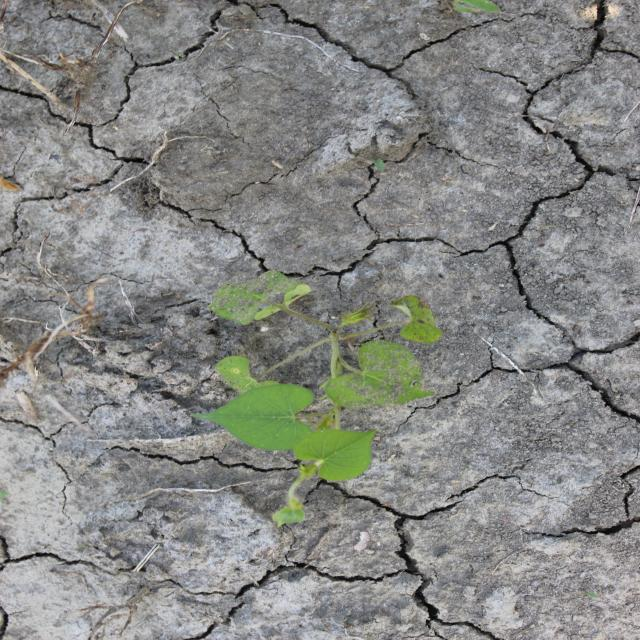MorningGlory: (188, 268, 444, 528)
